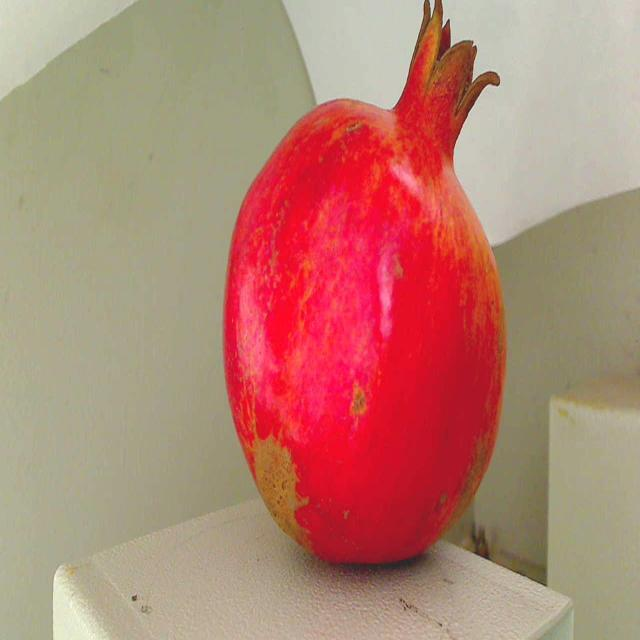pomegranate: (209, 0, 530, 583)
